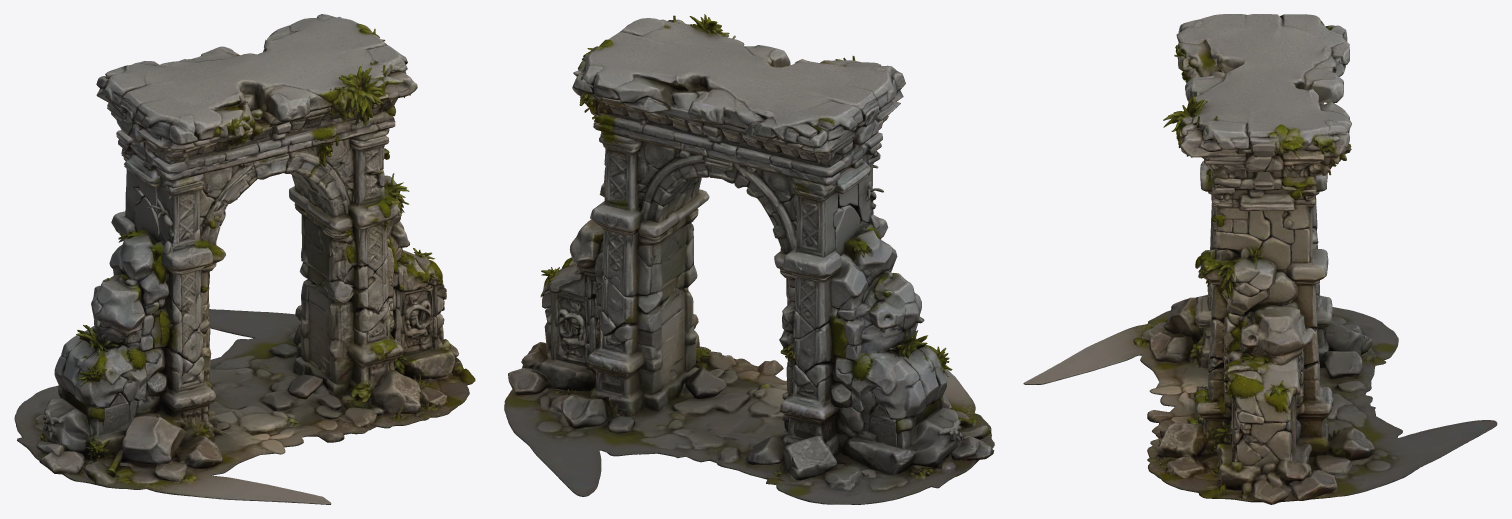
Rendered from b612-gate-moss.glb.
The picture shows the model from 3 angles, left to right: view 1: azimuth 30°, elevation 25°; view 2: azimuth 150°, elevation 25°; view 3: azimuth 270°, elevation 25°; orthographic projection. The views are drawn at different scales.
Visible parts, largest first — view 1: tripo_node_7554d447_tripo_mat_7554d447_0; view 2: tripo_node_7554d447_tripo_mat_7554d447_0; view 3: tripo_node_7554d447_tripo_mat_7554d447_0.
Part boxes in pixels (box(x1,y1,x2,y2)): tripo_node_7554d447_tripo_mat_7554d447_0: box(14, 14, 475, 504); tripo_node_7554d447_tripo_mat_7554d447_0: box(504, 14, 994, 504); tripo_node_7554d447_tripo_mat_7554d447_0: box(1023, 14, 1497, 504).
Bounding box in the file's own units: 0.9794 × 0.744 × 0.9342.
Materials: 1 (1 with a texture image).
